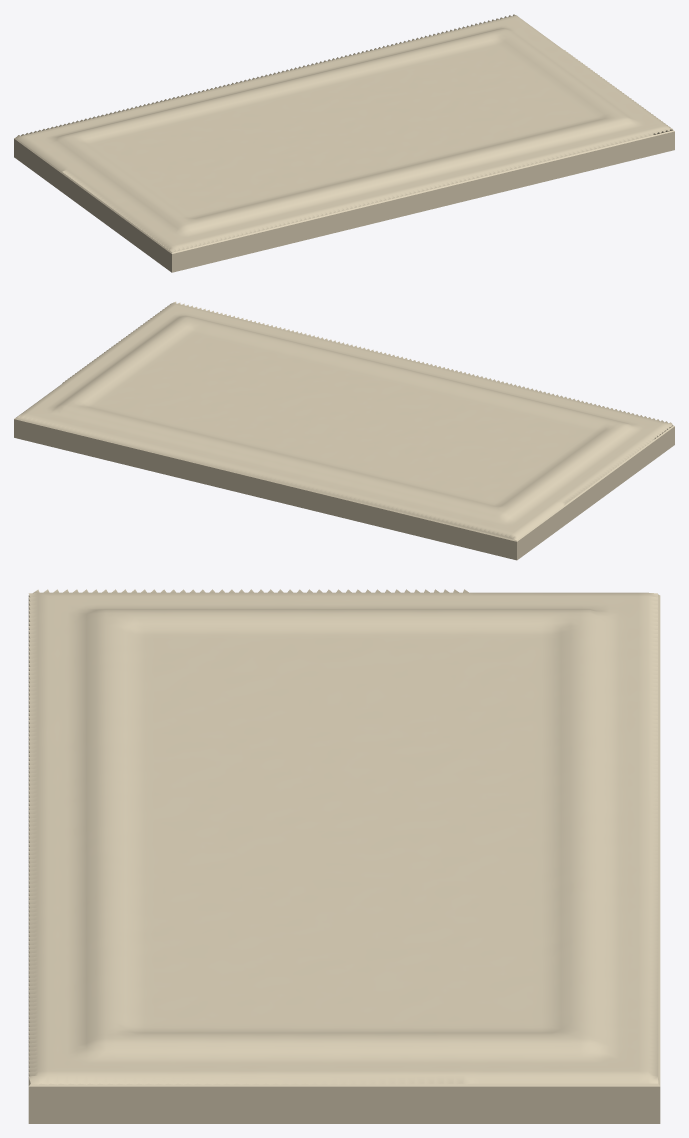
File: mahsulot.glb
3 renders of one model, top to bottom at view 1: azimuth 30°, elevation 25°; view 2: azimuth 150°, elevation 25°; view 3: azimuth 270°, elevation 25°, orthographic. The views are drawn at different scales.
Visible parts, largest first — view 1: mahsulot; view 2: mahsulot; view 3: mahsulot.
Part boxes in pixels (x1=…): mahsulot: x1=14, y1=14, x2=674, y2=272; mahsulot: x1=14, y1=301, x2=674, y2=560; mahsulot: x1=28, y1=589, x2=660, y2=1123.
Size of the model in its own units: 0.8 by 0.0399 by 0.435.
